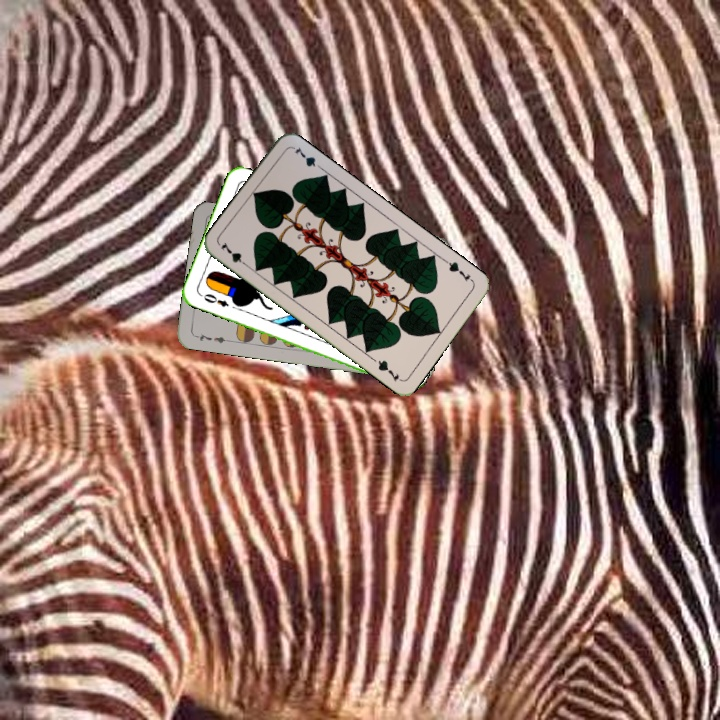E7: (191, 329, 231, 346)
EO: (196, 289, 231, 310)
G7: (216, 238, 252, 270), (441, 256, 476, 285)
